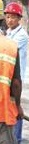boots: (0, 136, 21, 144), (0, 137, 12, 144)
hard-hat: (0, 0, 14, 19)
vest: (0, 25, 14, 120)
